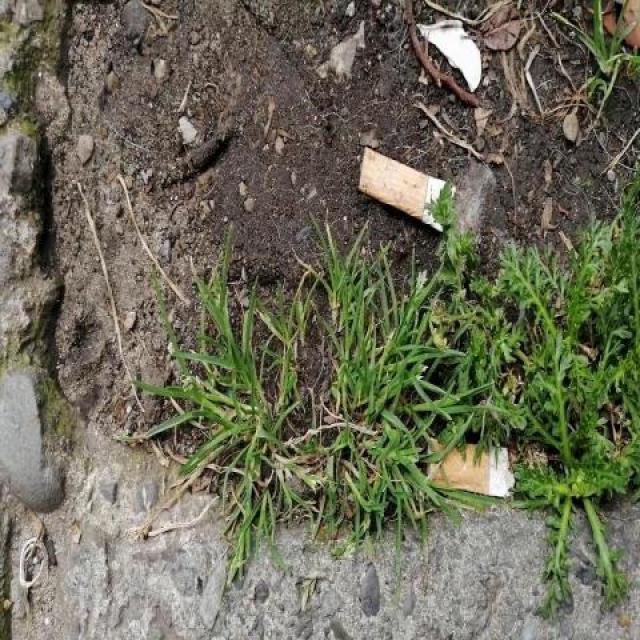non-organic waste: (354, 142, 458, 239), (423, 433, 521, 507)
